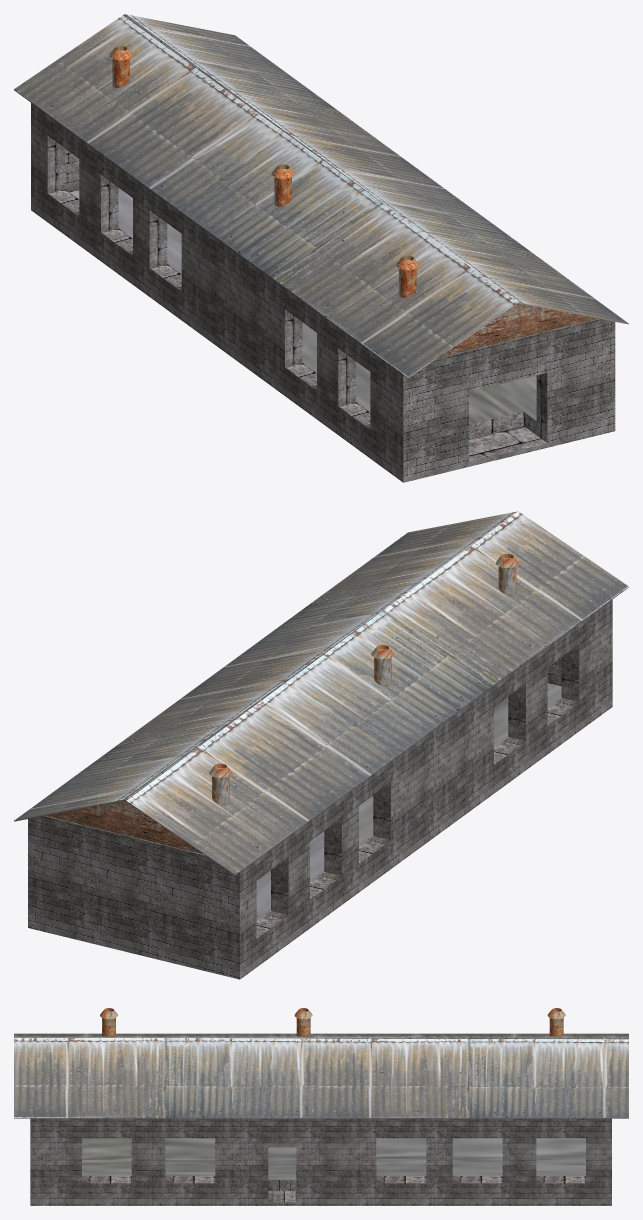
Rendered from Korovnik_004.fbx.
3 renders of one model, top to bottom at view 1: azimuth 30°, elevation 25°; view 2: azimuth 150°, elevation 25°; view 3: azimuth 270°, elevation 25°, orthographic. The views are drawn at different scales.
Parts seen in each view (by area): view 1: Cube.025, Cube.026, Cube; view 2: Cube.025, Cube.026, Cube.001; view 3: Cube.025, Cube.026.
Boxes of the visible parts, x1=… form: Cube.025: x1=14, y1=14, x2=628, y2=378; Cube.026: x1=31, y1=103, x2=615, y2=482; Cube: x1=439, y1=303, x2=597, y2=357; Cube.025: x1=14, y1=511, x2=628, y2=875; Cube.026: x1=28, y1=599, x2=612, y2=979; Cube.001: x1=45, y1=800, x2=203, y2=854; Cube.025: x1=14, y1=1008, x2=628, y2=1118; Cube.026: x1=30, y1=1118, x2=611, y2=1205.
Bounding box in the file's own units: 480 × 361 × 1480.
